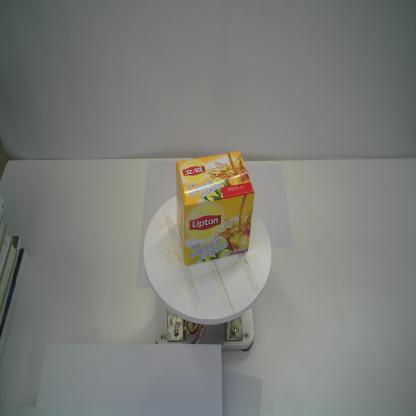Instant Drink: (173, 150, 256, 267)
